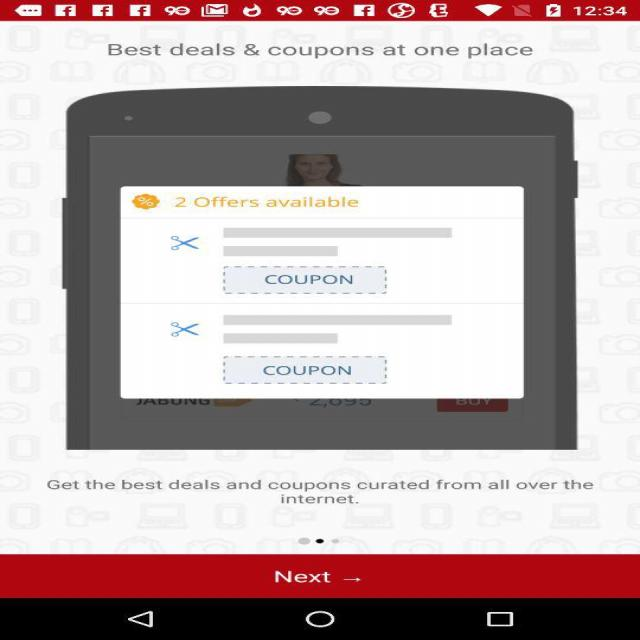button: (32, 553, 608, 594)
image: (51, 87, 583, 444)
text: (31, 469, 615, 508), (85, 39, 563, 64)
